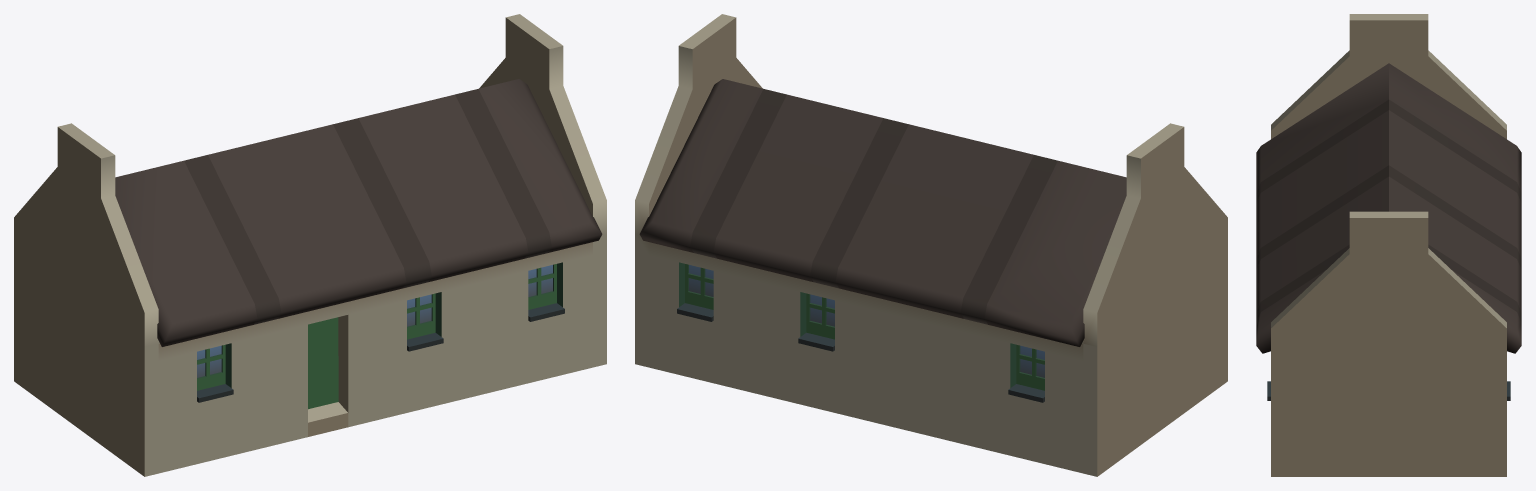
File: buildings-farm-thatchedcottage_v2.glb
3 views of the same model, side by side, from view 1: azimuth 30°, elevation 25°; view 2: azimuth 150°, elevation 25°; view 3: azimuth 270°, elevation 25° (orthographic). The views are drawn at different scales.
Parts seen in each view (by area): view 1: ThatchedCottage_v2_base114, ThatchedCottage_v2_color, ThatchedCottage_v2_windowRefl; view 2: ThatchedCottage_v2_base114, ThatchedCottage_v2_color, ThatchedCottage_v2_windowRefl; view 3: ThatchedCottage_v2_base114.
Part boxes in pixels (<box>): ThatchedCottage_v2_base114: <box>14,14,606,476</box>; ThatchedCottage_v2_color: <box>197,262,562,409</box>; ThatchedCottage_v2_windowRefl: <box>197,265,552,377</box>; ThatchedCottage_v2_base114: <box>635,14,1227,476</box>; ThatchedCottage_v2_color: <box>679,262,1044,390</box>; ThatchedCottage_v2_windowRefl: <box>689,265,1044,377</box>; ThatchedCottage_v2_base114: <box>1256,14,1521,476</box>.
Bounding box in the file's own units: 13.5 × 8 × 7.43.
